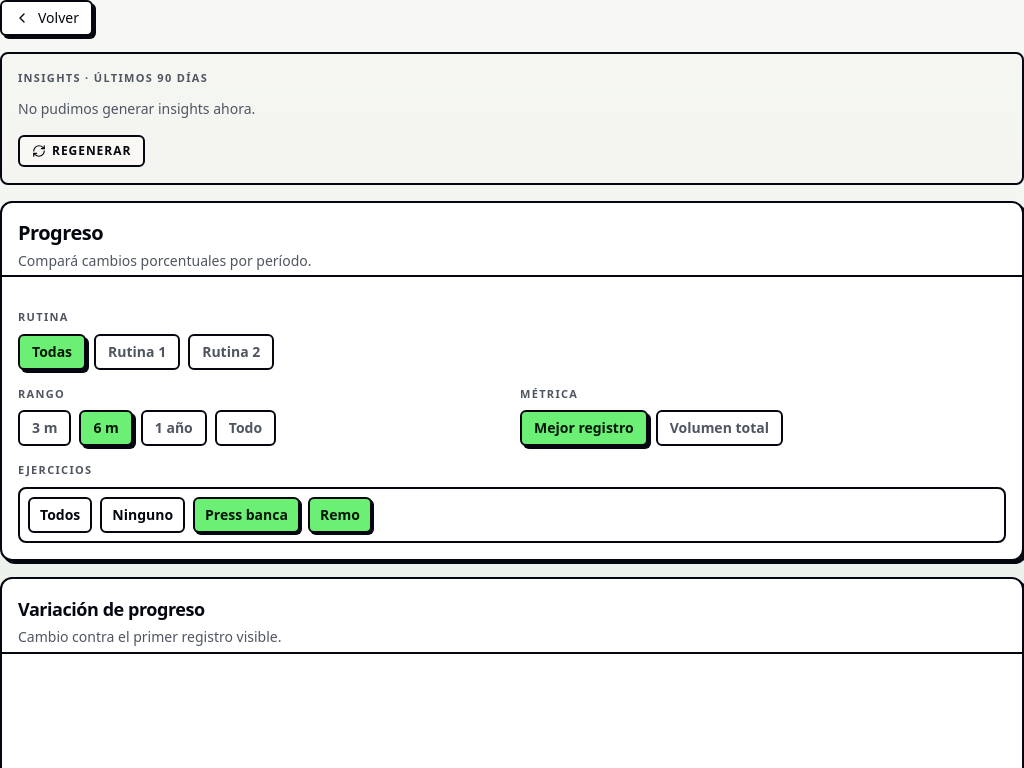
Test: ProgressOverviewPage › changes the selected metric mode
Click the button "Volumen total". click: (719, 428)
box: [656,410,783,446]
(page scrolled)
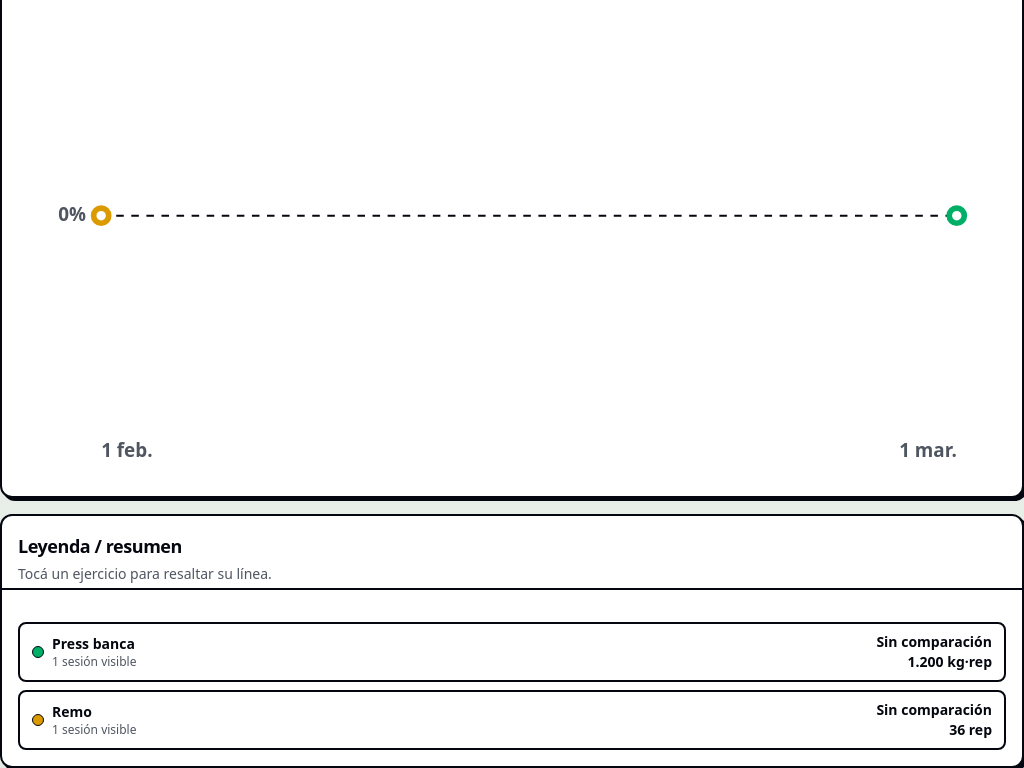
Expected: the text "1.200 kg·rep" is shown, [908,652,992,671]
